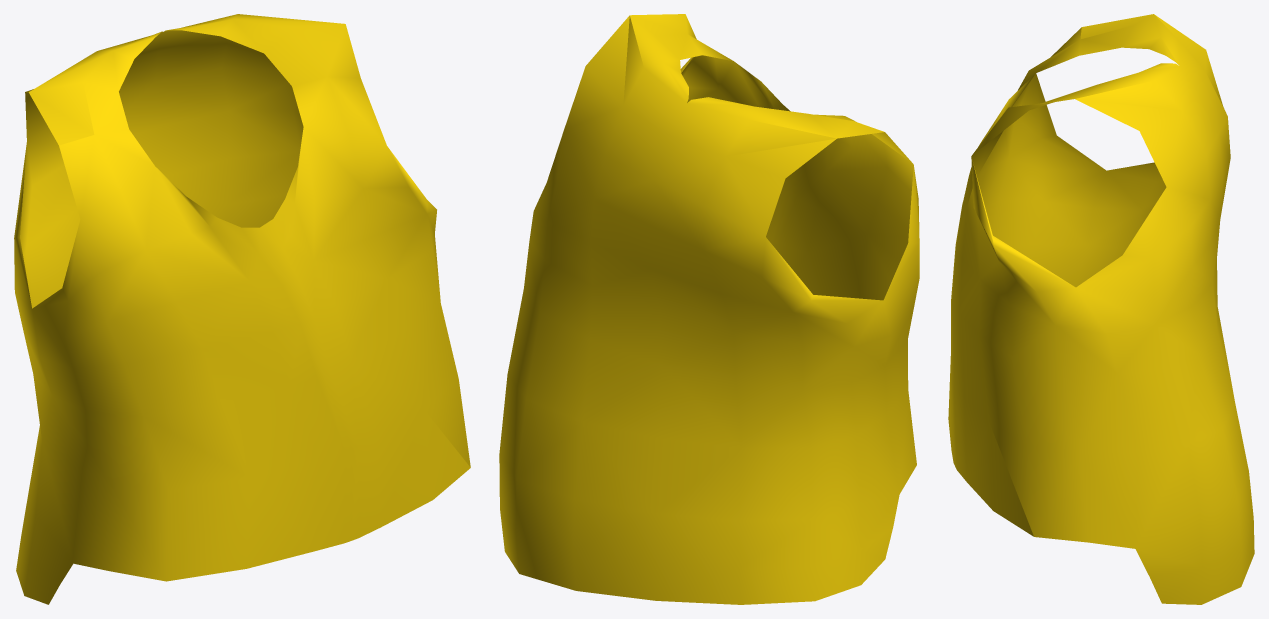
The model's file is vest.fbx.
3 views of the same model, side by side, from view 1: azimuth 30°, elevation 25°; view 2: azimuth 150°, elevation 25°; view 3: azimuth 270°, elevation 25° (orthographic). The views are drawn at different scales.
Parts seen in each view (by area): view 1: Model; view 2: Model; view 3: Model.
Boxes of the visible parts, <box> form: Model: <box>14,14,470,604</box>; Model: <box>499,14,919,604</box>; Model: <box>948,14,1254,604</box>.
Bounding box in the file's own units: 20.85 × 26.55 × 15.39.
